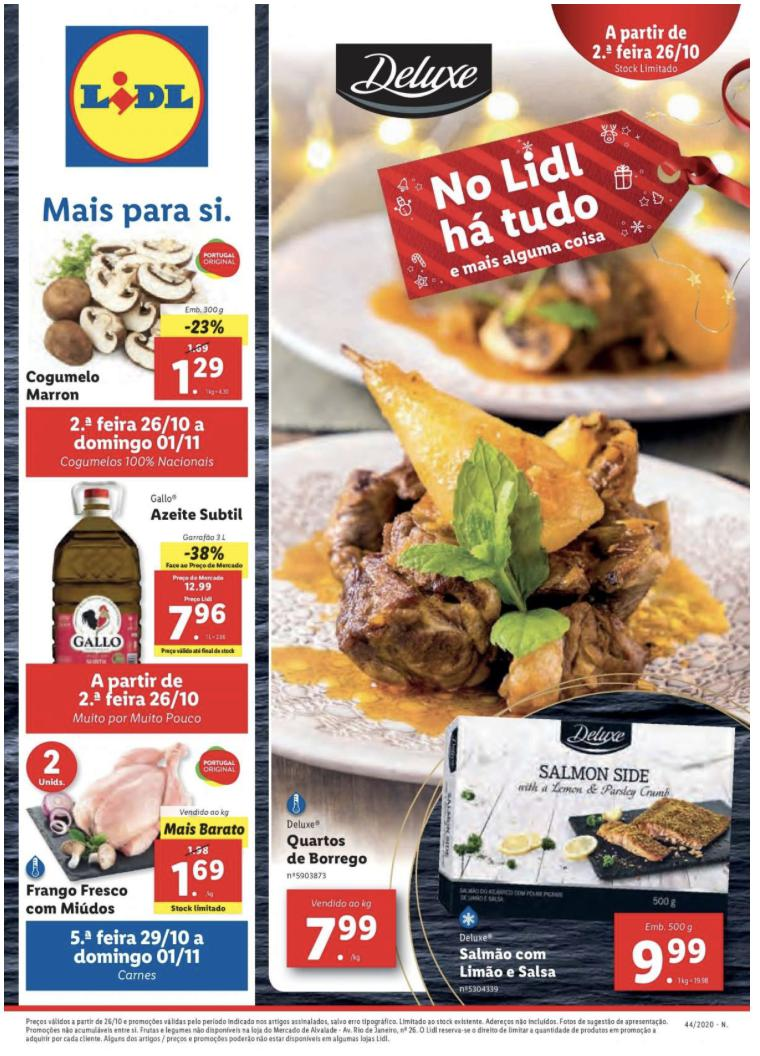name: (455, 944, 561, 987), (22, 884, 135, 917), (285, 832, 373, 870), (24, 367, 105, 407), (152, 509, 244, 528)
price: (627, 936, 711, 992), (295, 912, 384, 963), (161, 599, 234, 646), (167, 353, 239, 400), (165, 859, 228, 900)
product: (277, 315, 611, 975), (443, 703, 739, 1000), (20, 734, 251, 921), (30, 478, 248, 666), (23, 224, 245, 404)
promotion: (177, 316, 227, 337), (181, 545, 226, 563)
